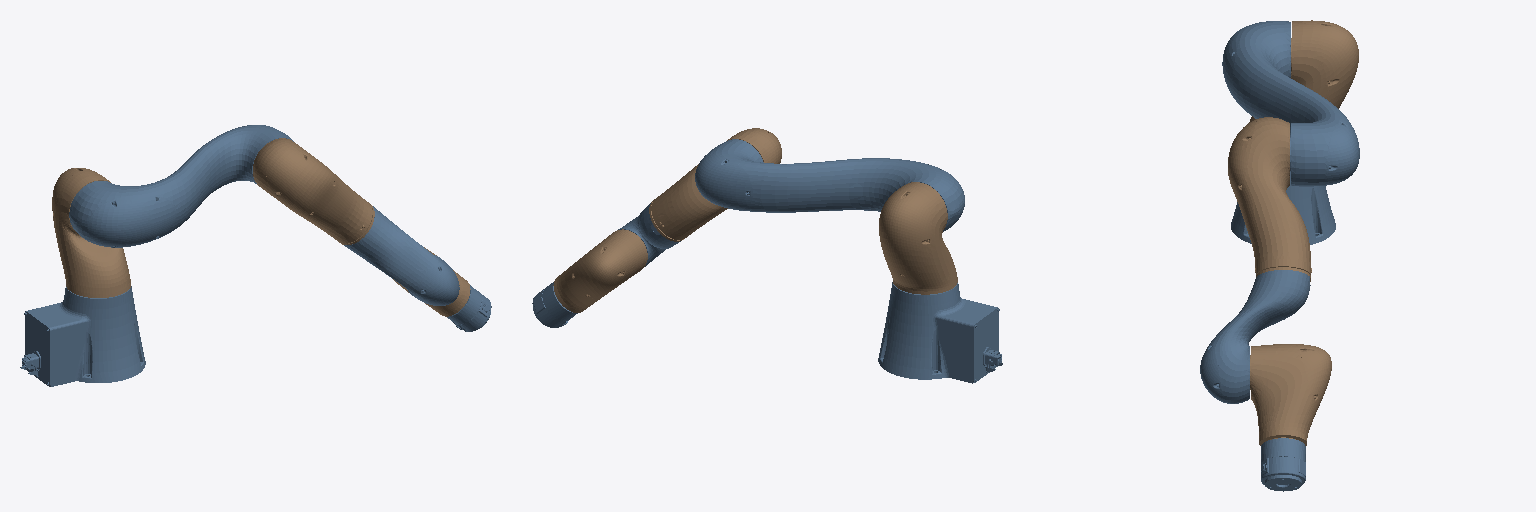
URDF robot description (hsr_co605):
<robot
  name="hsr_co605">

  <link name="world"/>

  <joint name="fixed" type="fixed">
    <parent link="world"/>
    <child link="base_link"/>
	<origin
      xyz="0 1 1"
      rpy="0 0 0" />
  </joint> 

  <link
    name="base_link">
    <inertial>
      <origin
        xyz="-0.021912 3.5206E-07 0.072666"
        rpy="0 0 0" />
      <mass
        value="3.5836" />
      <inertia
        ixx="2.9136E-05"
        ixy="-2.1811E-09"
        ixz="-0.00010967"
        iyy="0.00060536"
        iyz="-4.5389E-10"
        izz="0.000578" />
    </inertial>
    <visual>
      <origin
        xyz="0 0 0"
        rpy="0 0 0" />
      <geometry>
        <mesh
          filename="package://hsr_description/meshes/co605/base_link.STL" />
      </geometry>
      <material
        name="">
        <color
          rgba="0.4 0.5 0.6 1" />
      </material>
    </visual>
    <collision>
      <origin
        xyz="0 0 0"
        rpy="0 0 0" />
      <geometry>
        <mesh
          filename="package://hsr_description/meshes/co605/base_link.STL" />
      </geometry>
    </collision>
  </link>
  <link
    name="link1">
    <inertial>
      <origin
        xyz="6.6053E-07 -0.041864 0.057461"
        rpy="0 0 0" />
      <mass
        value="2.2858" />
      <inertia
        ixx="0.0028736"
        ixy="-1.2977E-08"
        ixz="-1.1421E-08"
        iyy="0.0012558"
        iyz="-0.0014242"
        izz="0.001619" />
    </inertial>
    <visual>
      <origin
        xyz="0 0 0"
        rpy="0 0 0" />
      <geometry>
        <mesh
          filename="package://hsr_description/meshes/co605/link1.STL" />
      </geometry>
      <material
        name="">
        <color
          rgba="0.6 0.5 0.4 1" />
      </material>
    </visual>
    <collision>
      <origin
        xyz="0 0 0"
        rpy="0 0 0" />
      <geometry>
        <mesh
          filename="package://hsr_description/meshes/co605/link1.STL" />
      </geometry>
    </collision>
  </link>
  <joint
    name="joint_1"
    type="revolute">
    <origin
      xyz="0 0 0.3215"
      rpy="-3.1416 5.9903E-29 -1.4937E-16" />
    <parent
      link="base_link" />
    <child
      link="link1" />
    <axis
      xyz="0 0 -1" />
    <limit
      lower="-3.490658503988"
      upper="3.490658503988"
      effort="28"
      velocity="3.2" />
    <safety_controller
      soft_upper_limit="3.481931857728"
      soft_lower_limit="-3.481931857728"
      k_position="100"
      k_velocity="10" />
  </joint>
  <link
    name="link2">
    <inertial>
      <origin
        xyz="1.0568E-05 -0.1934 0.0072764"
        rpy="0 0 0" />
      <mass
        value="3.9796" />
      <inertia
        ixx="0.024928"
        ixy="-9.3143E-07"
        ixz="4.2908E-07"
        iyy="0.0049988"
        iyz="0.0099684"
        izz="0.019932" />
    </inertial>
    <visual>
      <origin
        xyz="0 0 0"
        rpy="0 0 0" />
      <geometry>
        <mesh
          filename="package://hsr_description/meshes/co605/link2.STL" />
      </geometry>
      <material
        name="">
        <color
          rgba="0.4 0.5 0.6 1" />
      </material>
    </visual>
    <collision>
      <origin
        xyz="0 0 0"
        rpy="0 0 0" />
      <geometry>
        <mesh
          filename="package://hsr_description/meshes/co605/link2.STL" />
      </geometry>
    </collision>
  </link>
  <joint
    name="joint_2"
    type="revolute">
    <origin
      xyz="0 0 0"
      rpy="1.5708 -1.5708 0" />
    <parent
      link="link1" />
    <child
      link="link2" />
    <axis
      xyz="0 0 1" />
    <limit
      lower="-2.268928027592"
      upper="1"
      effort="28"
      velocity="3.2" />
    <safety_controller
      soft_upper_limit="1"
      soft_lower_limit="-2.260201381332"
      k_position="100"
      k_velocity="10" />
  </joint>
  <link
    name="link3">
    <inertial>
      <origin
        xyz="-4.1646E-06 -0.084864 -0.023661"
        rpy="0 0 0" />
      <mass
        value="2.3017" />
      <inertia
        ixx="0.0050619"
        ixy="1.9871E-07"
        ixz="-9.377E-08"
        iyy="0.00080339"
        iyz="0.0014584"
        izz="0.0043189" />
    </inertial>
    <visual>
      <origin
        xyz="0 0 0"
        rpy="0 0 0" />
      <geometry>
        <mesh
          filename="package://hsr_description/meshes/co605/link3.STL" />
      </geometry>
      <material
        name="">
        <color
          rgba="0.6 0.5 0.4 1" />
      </material>
    </visual>
    <collision>
      <origin
        xyz="0 0 0"
        rpy="0 0 0" />
      <geometry>
        <mesh
          filename="package://hsr_description/meshes/co605/link3.STL" />
      </geometry>
    </collision>
  </link>
  <joint
    name="joint_3"
    type="revolute">
    <origin
      xyz="0 -0.4 0"
      rpy="-7.0321E-15 1.0327E-14 -1.5708" />
    <parent
      link="link2" />
    <child
      link="link3" />
    <axis
      xyz="0 0 1" />
    <limit
      lower="1"
      upper="3.665191429188"
      effort="28"
      velocity="3.2" />
    <safety_controller
      soft_upper_limit="3.656464782928"
      soft_lower_limit="0.008726646259"
      k_position="100"
      k_velocity="10" />
  </joint>
  <link
    name="link4">
    <inertial>
      <origin
        xyz="0.058545 -4.4729E-06 0.33207"
        rpy="0 0 0" />
      <mass
        value="1.1696" />
      <inertia
        ixx="0.00052342"
        ixy="-2.9755E-08"
        ixz="-0.0004967"
        iyy="0.00099547"
        iyz="-3.1299E-08"
        izz="0.00047263" />
    </inertial>
    <visual>
      <origin
        xyz="0 0 0"
        rpy="0 0 0" />
      <geometry>
        <mesh
          filename="package://hsr_description/meshes/co605/link4.STL" />
      </geometry>
      <material
        name="">
        <color
          rgba="0.4 0.5 0.6 1" />
      </material>
    </visual>
    <collision>
      <origin
        xyz="0 0 0"
        rpy="0 0 0" />
      <geometry>
        <mesh
          filename="package://hsr_description/meshes/co605/link4.STL" />
      </geometry>
    </collision>
  </link>
  <joint
    name="joint_4"
    type="revolute">
    <origin
      xyz="0 0 0"
      rpy="1.5708 1.5708 0" />
    <parent
      link="link3" />
    <child
      link="link4" />
    <axis
      xyz="0 0 1" />
    <limit
      lower="-3.0"
      upper="3.0"
      effort="28"
      velocity="3.2" />
    <safety_controller
      soft_upper_limit="3.0"
      soft_lower_limit="-3.0"
      k_position="100"
      k_velocity="10" />
  </joint>
  <link
    name="link5">
    <inertial>
      <origin
        xyz="-1.4755E-07 -0.034466 0.0044663"
        rpy="0 0 0" />
      <mass
        value="1.4115" />
      <inertia
        ixx="0.0015897"
        ixy="-6.782E-09"
        ixz="-1.3146E-08"
        iyy="0.0006121"
        iyz="-0.00040625"
        izz="0.00097818" />
    </inertial>
    <visual>
      <origin
        xyz="0 0 0"
        rpy="0 0 0" />
      <geometry>
        <mesh
          filename="package://hsr_description/meshes/co605/link5.STL" />
      </geometry>
      <material
        name="">
        <color
          rgba="0.6 0.5 0.4 1" />
      </material>
    </visual>
    <collision>
      <origin
        xyz="0 0 0"
        rpy="0 0 0" />
      <geometry>
        <mesh
          filename="package://hsr_description/meshes/co605/link5.STL" />
      </geometry>
    </collision>
  </link>
  <joint
    name="joint_5"
    type="revolute">
    <origin
      xyz="0 0 0.4"
      rpy="-1.5708 -3.2281E-16 1.5708" />
    <parent
      link="link4" />
    <child
      link="link5" />
    <axis
      xyz="0 0 1" />
    <limit
      lower="-2.268928027592"
      upper="2.268928027592"
      effort="28"
      velocity="3.2" />
    <safety_controller
      soft_upper_limit="2.260201381332"
      soft_lower_limit="-2.260201381332"
      k_position="100"
      k_velocity="10" />
  </joint>
  <link
    name="link6">
    <inertial>
      <origin
        xyz="-9.6295E-05 0.00016669 -0.035518"
        rpy="0 0 0" />
      <mass
        value="0.30888" />
      <inertia
        ixx="8.8278E-05"
        ixy="-1.1971E-06"
        ixz="3.4899E-07"
        iyy="8.9661E-05"
        iyz="-6.0395E-07"
        izz="5.5013E-06" />
    </inertial>
    <visual>
      <origin
        xyz="0 0 0"
        rpy="0 0 0" />
      <geometry>
        <mesh
          filename="package://hsr_description/meshes/co605/link6.STL" />
      </geometry>
      <material
        name="">
        <color
          rgba="0.4 0.5 0.6 1" />
      </material>
    </visual>
    <collision>
      <origin
        xyz="0 0 0"
        rpy="0 0 0" />
      <geometry>
        <mesh
          filename="package://hsr_description/meshes/co605/link6.STL" />
      </geometry>
    </collision>
  </link>
  <joint
    name="joint_6"
    type="revolute">
    <origin
      xyz="0 -0.205 0"
      rpy="-1.5708 2.7756E-17 -3.1416" />
    <parent
      link="link5" />
    <child
      link="link6" />
    <axis
      xyz="0 0 1" />
    <limit
      lower="-5.1"
      upper="5.1"
      effort="28"
      velocity="3.2" />
    <safety_controller
      soft_upper_limit="5.1"
      soft_lower_limit="-5.1"
      k_position="100"
      k_velocity="10" />
  </joint>
</robot>

--- Facts derived from the render (not from the file) ---
The picture shows the robot from 3 angles, left to right: view 1: azimuth 30°, elevation 25°; view 2: azimuth 150°, elevation 25°; view 3: azimuth 270°, elevation 25°; orthographic projection.
Robot: hsr_co605 — 8 links, 7 joints (6 revolute, 1 fixed); root link world; default pose: all joints at 0 but 1 set to mid-range because 0 is outside their limits (joint_3 = 2.33).
Visible links, largest first — view 1: link2, base_link, link3, link1, link4, link6, link5; view 2: link2, base_link, link1, link5, link3, link4, link6; view 3: link2, link3, link5, link4, link1, base_link, link6.
Link boxes in pixels (<box>): link2: <box>69,125,293,247</box>; base_link: <box>20,286,145,386</box>; link3: <box>253,138,374,244</box>; link1: <box>52,168,130,297</box>; link4: <box>344,206,459,305</box>; link6: <box>447,285,491,331</box>; link5: <box>393,247,470,316</box>; link2: <box>695,139,964,231</box>; base_link: <box>878,282,1002,383</box>; link1: <box>879,182,957,294</box>; link5: <box>553,229,647,312</box>; link3: <box>649,128,781,241</box>; link4: <box>618,203,680,266</box>; link6: <box>532,282,577,327</box>; link2: <box>1222,21,1359,186</box>; link3: <box>1228,117,1311,281</box>; link5: <box>1250,344,1331,445</box>; link4: <box>1200,270,1310,403</box>; link1: <box>1249,20,1358,122</box>; base_link: <box>1231,172,1335,244</box>; link6: <box>1261,438,1305,491</box>.
Bounding box of the posed robot: 1.02 × 0.2724 × 0.5003 m (x, y, z).
7 mesh visuals loaded from 7 distinct referenced files (7 binary STL).